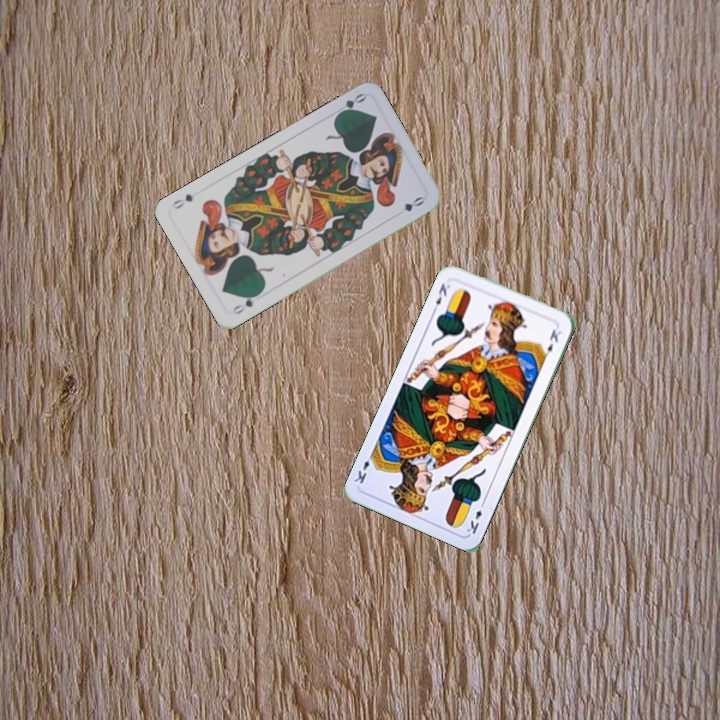EK: (462, 497, 487, 536), (429, 279, 452, 314)
GO: (332, 89, 368, 119), (228, 288, 263, 317)
